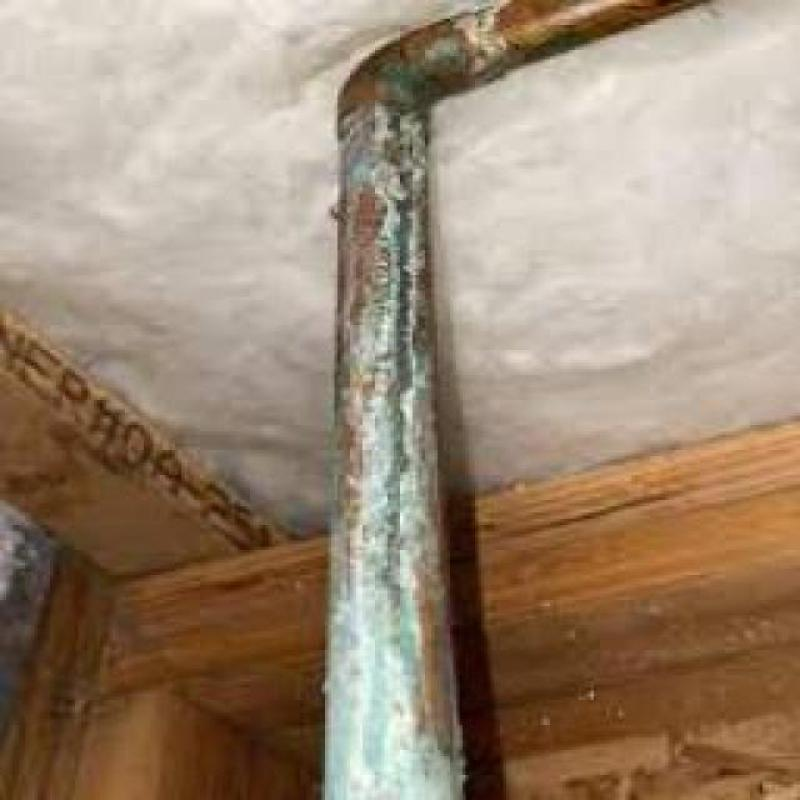corrosion: (338, 95, 434, 405)
